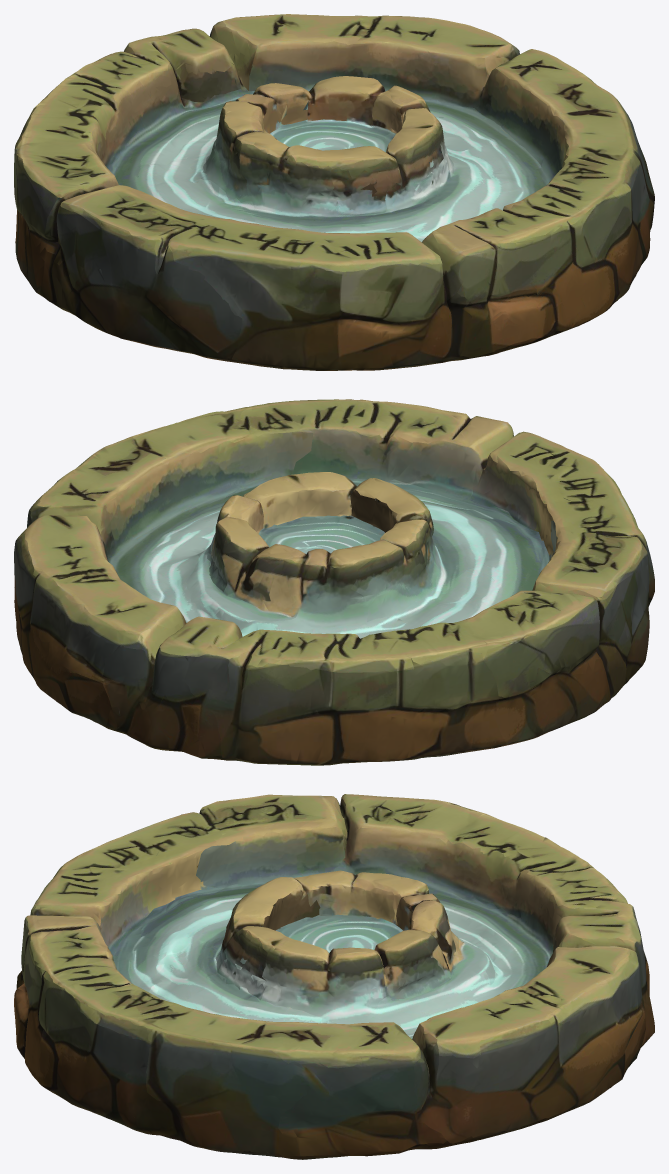
The model's file is struct_water_array.glb.
3 renders of one model, top to bottom at view 1: azimuth 30°, elevation 25°; view 2: azimuth 150°, elevation 25°; view 3: azimuth 270°, elevation 25°, orthographic.
Parts seen in each view (by area): view 1: struct_water_array; view 2: struct_water_array; view 3: struct_water_array.
Part boxes in pixels (x1,y1,x2,y2): struct_water_array: [14, 14, 654, 370]; struct_water_array: [14, 399, 654, 765]; struct_water_array: [14, 794, 654, 1159].
Bounding box in the file's own units: 1.99 × 0.4194 × 2.
1 material, 1 textured.
